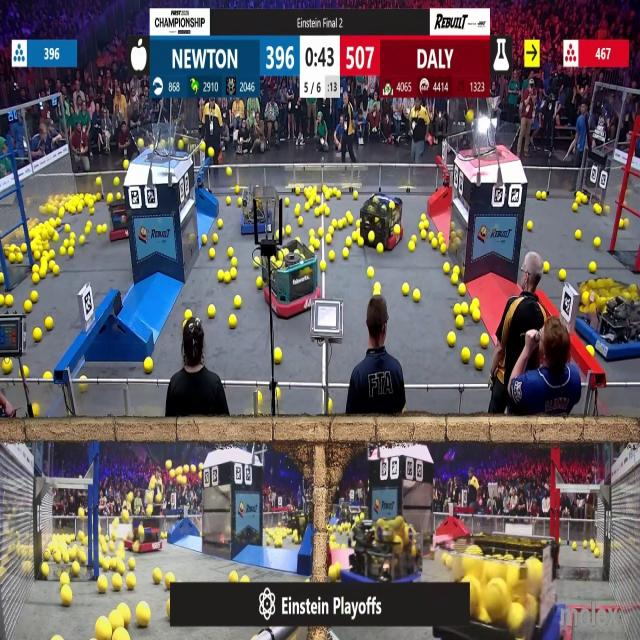ball_airborne: (466, 110, 473, 122), (186, 465, 193, 477), (154, 493, 161, 503), (170, 469, 177, 478), (178, 140, 184, 150), (138, 138, 144, 148), (147, 504, 153, 514), (166, 460, 172, 470), (208, 147, 214, 156), (129, 492, 134, 502), (201, 142, 206, 151)
ball_ground: (94, 618, 110, 640), (137, 605, 150, 629), (62, 588, 72, 606), (121, 610, 130, 629), (328, 565, 338, 580), (112, 574, 121, 590), (144, 357, 153, 372), (99, 579, 108, 594), (274, 348, 282, 363), (448, 333, 456, 348), (461, 348, 469, 363), (115, 631, 128, 640), (128, 574, 136, 588), (474, 355, 482, 369), (153, 569, 161, 583), (72, 562, 80, 576), (3, 359, 11, 373), (78, 552, 87, 564), (208, 306, 216, 319), (34, 328, 42, 341), (230, 315, 238, 328), (167, 572, 176, 583), (61, 573, 70, 584), (482, 335, 489, 349), (33, 405, 40, 419), (42, 564, 49, 578), (25, 301, 33, 313), (456, 316, 464, 328), (401, 283, 409, 295), (414, 289, 421, 302), (231, 570, 239, 581), (116, 562, 124, 573), (235, 296, 242, 308), (45, 318, 52, 330), (31, 290, 38, 302), (39, 268, 46, 280), (32, 274, 40, 284), (559, 270, 566, 281), (472, 311, 479, 322), (590, 263, 597, 274), (366, 268, 373, 279), (5, 295, 12, 306), (374, 283, 381, 294), (461, 305, 468, 316), (223, 272, 230, 283), (49, 264, 56, 275), (575, 192, 582, 203), (130, 558, 136, 570), (367, 233, 373, 245), (110, 559, 116, 571), (184, 310, 191, 320), (595, 205, 602, 215), (452, 275, 459, 285), (34, 250, 41, 260), (253, 256, 260, 266), (59, 208, 66, 218), (256, 278, 262, 289), (210, 248, 216, 259), (24, 365, 30, 376), (218, 271, 224, 282), (232, 269, 238, 280), (344, 248, 350, 259), (328, 250, 334, 261), (108, 192, 114, 203), (454, 305, 460, 316), (588, 346, 594, 357), (420, 232, 428, 240), (242, 574, 250, 582), (285, 225, 292, 234), (317, 229, 324, 238), (275, 538, 282, 547), (44, 369, 51, 378), (595, 238, 601, 248), (445, 265, 451, 275), (459, 284, 465, 294), (574, 231, 580, 241), (378, 244, 384, 254), (442, 244, 448, 254), (320, 262, 326, 272), (410, 242, 416, 252), (472, 297, 478, 307), (55, 267, 61, 277), (348, 214, 354, 224), (122, 161, 128, 171), (100, 557, 106, 567), (292, 534, 298, 544), (453, 267, 460, 275), (540, 191, 547, 199), (294, 206, 299, 217), (227, 248, 233, 257), (68, 247, 74, 256), (232, 257, 238, 266), (346, 239, 352, 248), (212, 235, 218, 244), (61, 247, 67, 256), (79, 236, 85, 245), (202, 236, 208, 245), (314, 208, 320, 217), (352, 232, 358, 241), (620, 219, 626, 228), (572, 204, 578, 213), (16, 253, 22, 262), (326, 236, 332, 245), (427, 232, 433, 241), (583, 196, 589, 205), (543, 264, 548, 274), (527, 220, 532, 230), (103, 222, 108, 232), (276, 386, 281, 396), (327, 400, 332, 410), (412, 235, 418, 243), (284, 199, 290, 207), (237, 199, 243, 207), (225, 168, 231, 176), (42, 250, 48, 258), (55, 234, 61, 242), (87, 221, 93, 229), (43, 242, 49, 250), (23, 244, 29, 252), (297, 216, 302, 225), (358, 239, 363, 248), (114, 177, 119, 186), (217, 219, 222, 228), (340, 219, 345, 228), (0, 294, 4, 305), (0, 274, 4, 285), (33, 266, 39, 273), (70, 233, 76, 240), (57, 218, 63, 225), (431, 240, 436, 248), (49, 250, 54, 258), (324, 208, 329, 216), (328, 225, 333, 233), (420, 222, 425, 230), (331, 219, 336, 227), (315, 240, 320, 248), (306, 204, 311, 212), (97, 192, 102, 200), (421, 214, 426, 222), (9, 254, 14, 262), (267, 537, 272, 545), (97, 177, 102, 185), (98, 224, 102, 233), (257, 392, 261, 401), (91, 208, 96, 215), (353, 191, 358, 198), (237, 185, 241, 193), (226, 198, 230, 206), (308, 228, 312, 236), (66, 223, 70, 231), (116, 191, 120, 199), (338, 190, 342, 198), (276, 231, 280, 239), (356, 219, 360, 227), (55, 636, 63, 640), (536, 191, 540, 198), (85, 226, 89, 233), (65, 240, 69, 247), (572, 542, 576, 549), (328, 195, 332, 202), (295, 188, 299, 195), (307, 577, 311, 583)
goal: (466, 121, 522, 160), (133, 127, 187, 160)
robot_blue: (434, 540, 566, 640), (343, 519, 424, 597), (577, 275, 640, 360), (240, 186, 280, 236)
robot_red: (264, 240, 320, 319), (360, 194, 403, 250), (130, 514, 163, 552), (106, 197, 128, 240)
